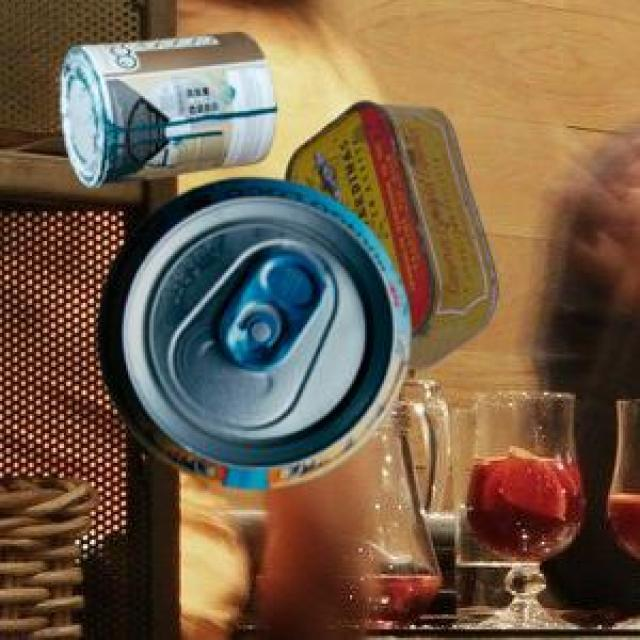Can: (95, 174, 409, 485), (283, 99, 494, 366), (59, 29, 274, 185)
